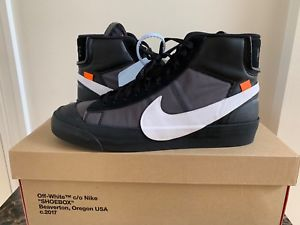Nike Blazer Grim Reaper: (46, 27, 264, 156)
